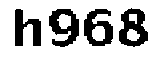6: (83, 6, 114, 47)
8: (118, 4, 150, 53)
9: (49, 6, 81, 50)
h: (9, 7, 43, 49)
